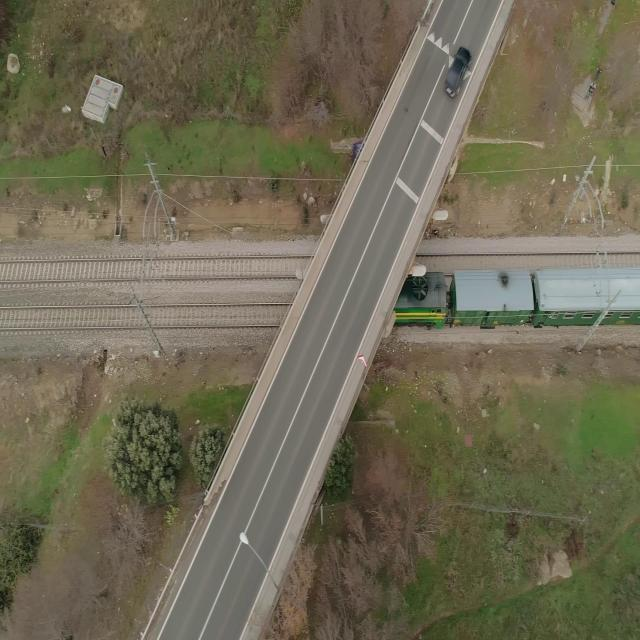Car: (441, 42, 476, 104)
